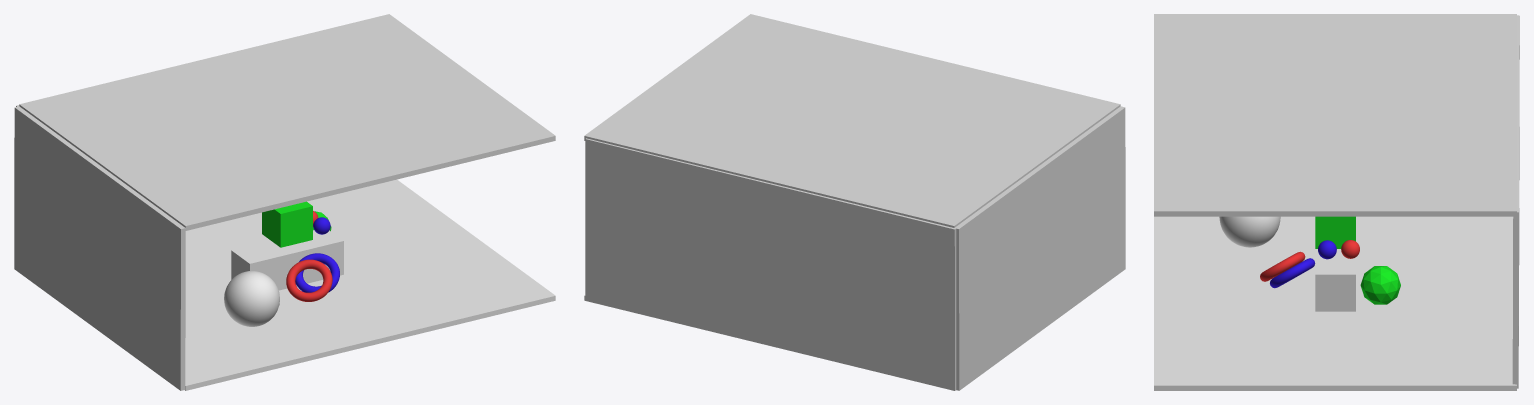
Rendered from materials.dae.
The picture shows the model from 3 angles, left to right: view 1: azimuth 30°, elevation 25°; view 2: azimuth 150°, elevation 25°; view 3: azimuth 270°, elevation 25°; orthographic projection. The views are drawn at different scales.
Visible parts, largest first — view 1: Cube.003, Cube.002, Cube.004, Cube.001, Sphere.002, Cube.000, Torus.001, Torus; view 2: Cube.003, Cube.005, Cube.004; view 3: Cube.003, Cube.002, Cube.001, Cube.005, Sphere.002, Icosphere, Cube.000, Torus.001, Torus, Cube.004.
Part boxes in pixels (x1=…): Cube.003: x1=19, y1=14, x2=555, y2=230; Cube.002: x1=185, y1=179, x2=555, y2=390; Cube.004: x1=14, y1=106, x2=185, y2=390; Cube.001: x1=231, y1=230, x2=343, y2=290; Sphere.002: x1=224, y1=271, x2=279, y2=326; Cube.000: x1=262, y1=201, x2=312, y2=247; Torus.001: x1=286, y1=259, x2=332, y2=301; Torus: x1=295, y1=253, x2=339, y2=292; Cube.003: x1=584, y1=14, x2=1120, y2=227; Cube.005: x1=585, y1=138, x2=956, y2=390; Cube.004: x1=956, y1=106, x2=1125, y2=390; Cube.003: x1=1154, y1=14, x2=1516, y2=216; Cube.002: x1=1154, y1=216, x2=1516, y2=390; Cube.001: x1=1315, y1=249, x2=1355, y2=311; Cube.005: x1=1512, y1=15, x2=1519, y2=388; Sphere.002: x1=1219, y1=216, x2=1280, y2=247; Icosphere: x1=1360, y1=266, x2=1400, y2=304; Cube.000: x1=1315, y1=216, x2=1355, y2=248; Torus.001: x1=1260, y1=251, x2=1305, y2=281; Torus: x1=1270, y1=258, x2=1315, y2=288; Cube.004: x1=1154, y1=14, x2=1516, y2=14.
Size of the model in its own units: 23.25 by 18.01 by 9.76.
